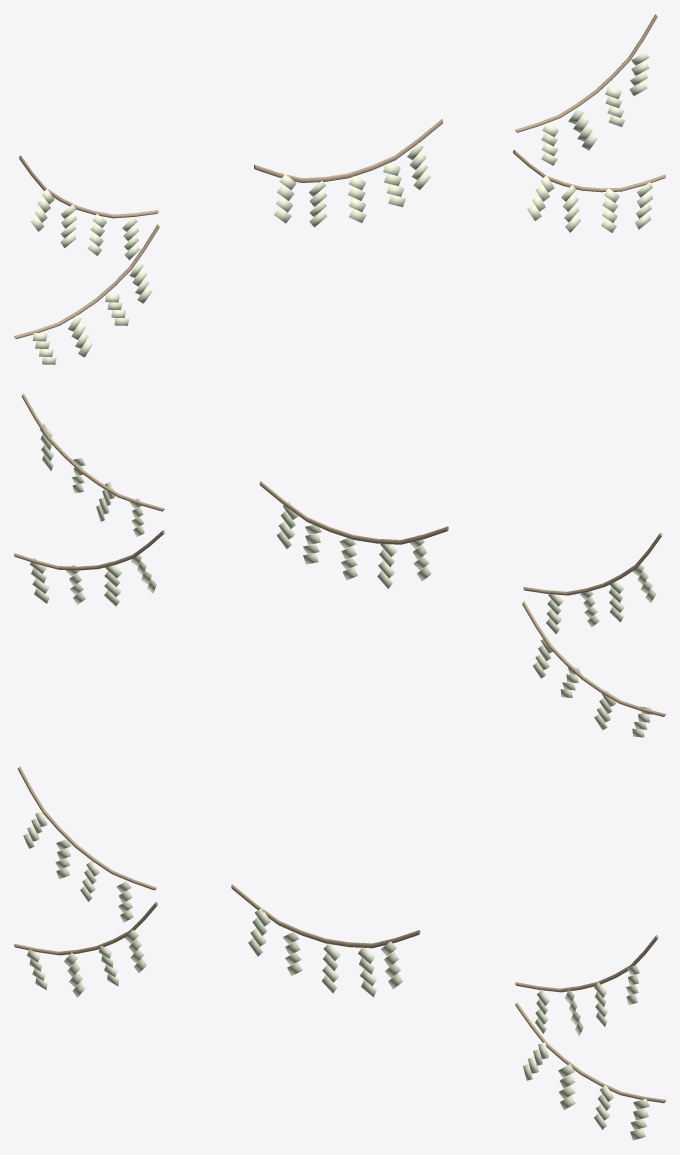
The model's file is Ofuda_Jimat Gantung.fbx.
The picture shows the model from 3 angles, top to bottom: view 1: azimuth 30°, elevation 25°; view 2: azimuth 150°, elevation 25°; view 3: azimuth 330°, elevation 25°; orthographic projection.
Parts seen in each view (by area): view 1: jimat; view 2: jimat; view 3: jimat.
Part boxes in pixels (x1=…): jimat: x1=14, y1=14, x2=665, y2=364; jimat: x1=14, y1=393, x2=665, y2=737; jimat: x1=14, y1=766, x2=665, y2=1140.
Size of the model in its own units: 982 by 321 by 43.58.
